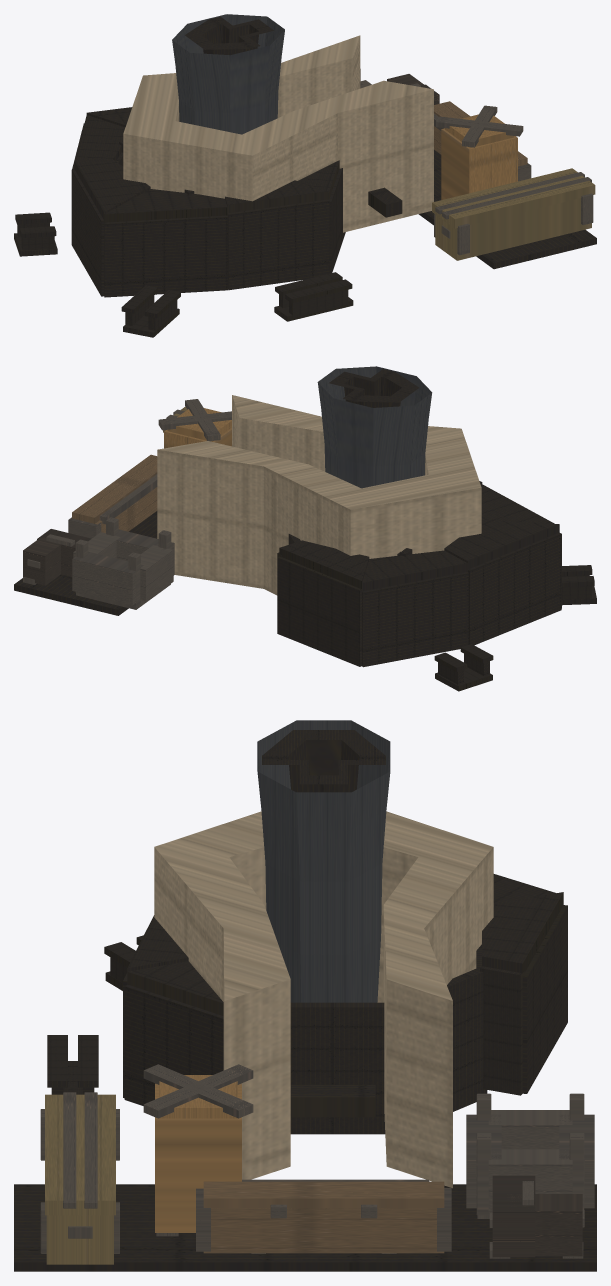
File: cargo_port_lod1.glb
The picture shows the model from 3 angles, top to bottom: view 1: azimuth 30°, elevation 25°; view 2: azimuth 150°, elevation 25°; view 3: azimuth 270°, elevation 25°; orthographic projection. The views are drawn at different scales.
Parts seen in each view (by area): view 1: LOD1_cargo_port, LOD1_cradle, LOD1_pod, LOD1_crate_0, LOD1_crate_1, LOD1_crate_2; view 2: LOD1_cradle, LOD1_cargo_port, LOD1_pod, LOD1_crate_3, LOD1_crate_2, LOD1_crate_1, LOD1_crate_4; view 3: LOD1_cargo_port, LOD1_cradle, LOD1_pod, LOD1_crate_2, LOD1_crate_0, LOD1_crate_1, LOD1_crate_3, LOD1_crate_4.
Boxes of the visible parts, bbox=[...] form: LOD1_cargo_port: bbox=[14, 107, 596, 337]; LOD1_cradle: bbox=[123, 35, 433, 232]; LOD1_pod: bbox=[172, 14, 284, 134]; LOD1_crate_0: bbox=[432, 168, 595, 260]; LOD1_crate_1: bbox=[436, 105, 523, 199]; LOD1_crate_2: bbox=[434, 101, 531, 181]; LOD1_cradle: bbox=[157, 395, 481, 595]; LOD1_cargo_port: bbox=[14, 481, 596, 691]; LOD1_pod: bbox=[317, 366, 432, 488]; LOD1_crate_3: bbox=[72, 517, 174, 609]; LOD1_crate_2: bbox=[68, 454, 157, 538]; LOD1_crate_1: bbox=[158, 399, 231, 448]; LOD1_crate_4: bbox=[23, 529, 91, 585]; LOD1_cargo_port: bbox=[14, 874, 596, 1271]; LOD1_cradle: bbox=[154, 811, 493, 1188]; LOD1_pod: bbox=[257, 720, 390, 1002]; LOD1_crate_2: bbox=[196, 1179, 451, 1253]; LOD1_crate_0: bbox=[40, 1092, 119, 1264]; LOD1_crate_1: bbox=[143, 1064, 253, 1236]; LOD1_crate_3: bbox=[466, 1093, 594, 1218]; LOD1_crate_4: bbox=[489, 1175, 584, 1258].
Size of the model in its own units: 2.14 by 1 by 1.58.
Materials: 1 (1 with a texture image).
